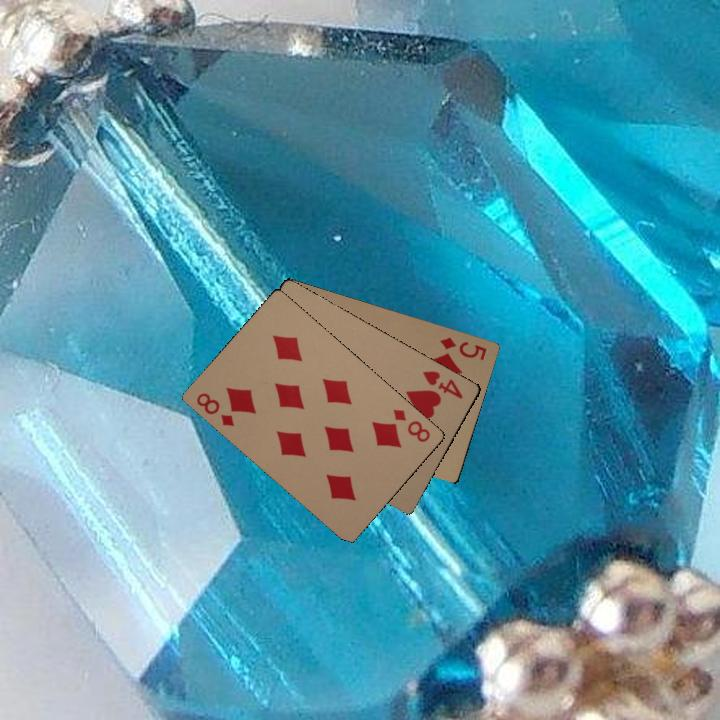4h: (419, 367, 465, 402)
5d: (436, 333, 489, 363)
8d: (192, 389, 237, 429), (389, 405, 433, 445)
